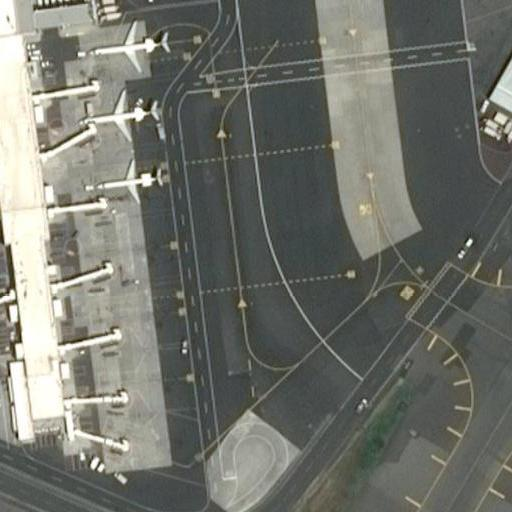Aircraft: (88, 18, 168, 72), (81, 91, 157, 144), (91, 163, 167, 205)
